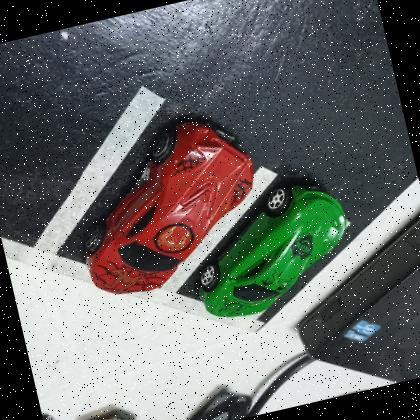Car: (58, 107, 278, 306), (180, 172, 364, 326)
